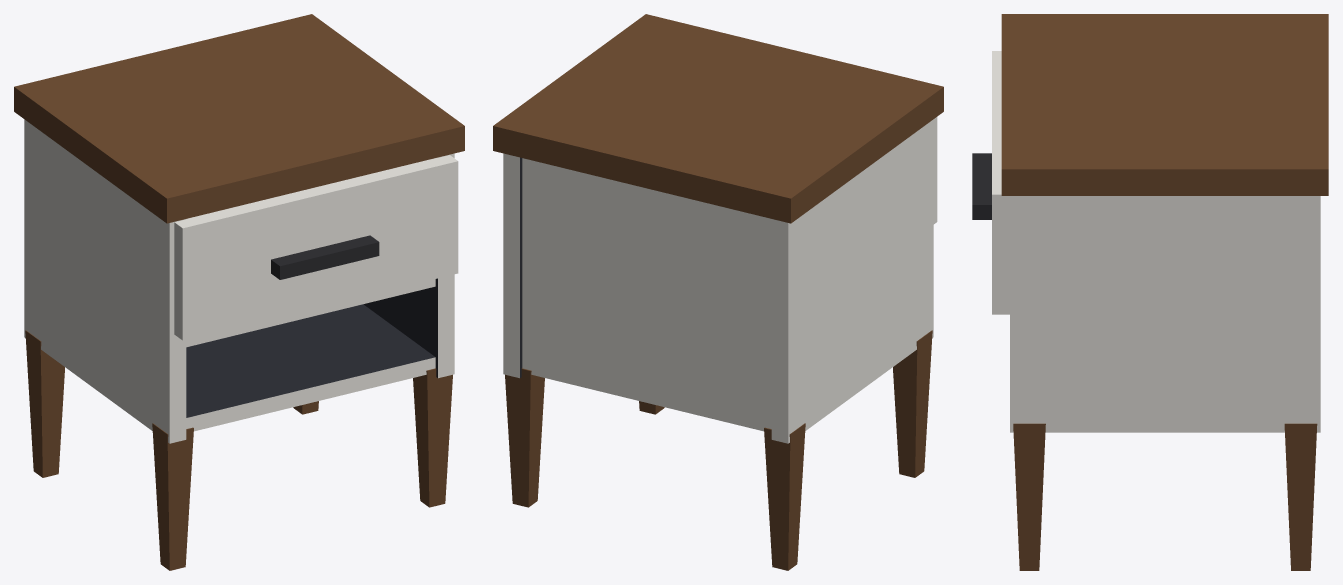
File: FN_Cabinet_Bedside.obj
The picture shows the model from 3 angles, left to right: view 1: azimuth 30°, elevation 25°; view 2: azimuth 150°, elevation 25°; view 3: azimuth 270°, elevation 25°; orthographic projection. The views are drawn at different scales.
Parts seen in each view (by area): view 1: FN_Cabinet_Bedside; view 2: FN_Cabinet_Bedside; view 3: FN_Cabinet_Bedside.
Part boxes in pixels (x1,y1,x2,y2): FN_Cabinet_Bedside: (14, 14, 464, 570); FN_Cabinet_Bedside: (493, 14, 943, 570); FN_Cabinet_Bedside: (972, 14, 1328, 570).
Bounding box in the file's own units: 0.45 × 0.55 × 0.436.
1 material, 1 textured.
